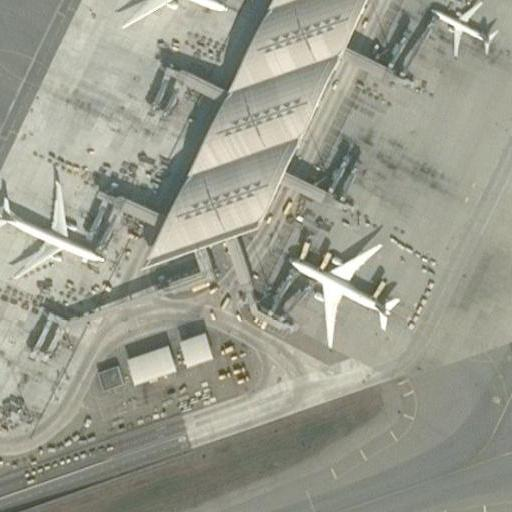Aircraft: (286, 232, 402, 346), (0, 170, 108, 278), (89, 0, 237, 30), (424, 0, 497, 60)
